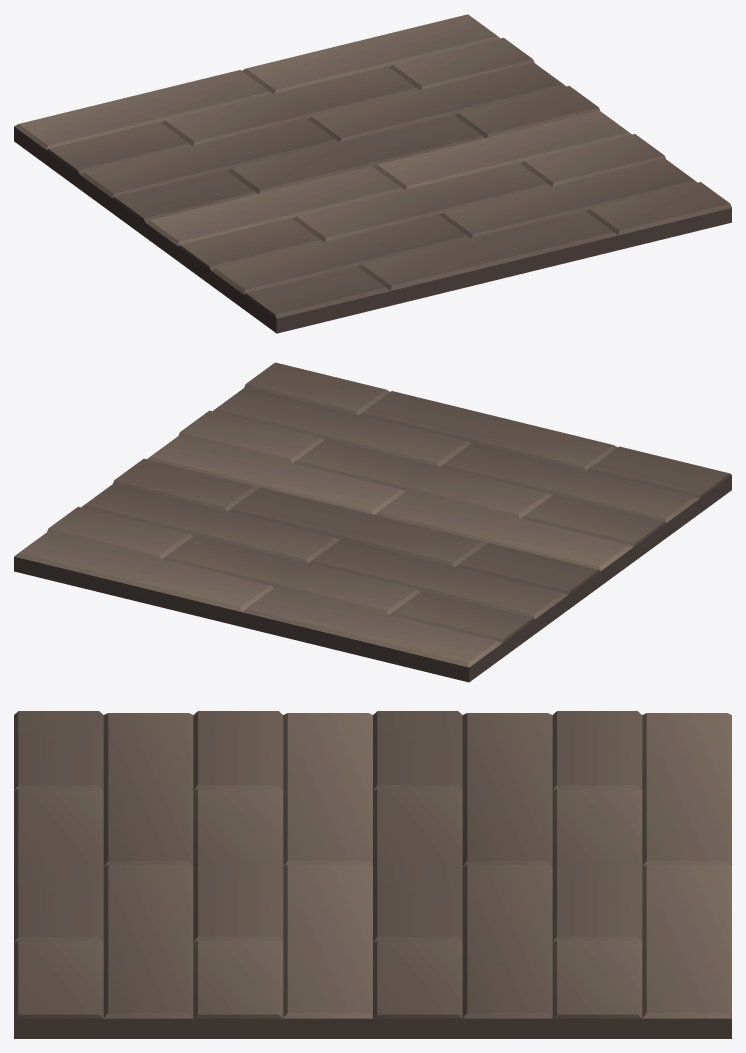
File: floor_wood_large_dark.glb
3 views of the same model, one above another, from view 1: azimuth 30°, elevation 25°; view 2: azimuth 150°, elevation 25°; view 3: azimuth 270°, elevation 25° (orthographic). The views are drawn at different scales.
Visible parts, largest first — view 1: floor_wood_large_dark; view 2: floor_wood_large_dark; view 3: floor_wood_large_dark.
Boxes of the visible parts, left/top/right/bottom form: floor_wood_large_dark: left=14, top=14, right=731, bottom=333; floor_wood_large_dark: left=14, top=362, right=731, bottom=682; floor_wood_large_dark: left=14, top=711, right=731, bottom=1038.
Size of the model in its own units: 4 by 0.1499 by 4.
Materials: 1 (1 with a texture image).
